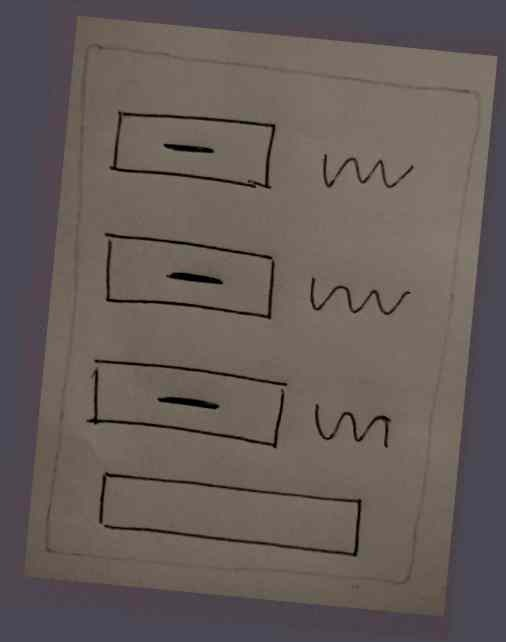button: (81, 353, 295, 460), (92, 227, 285, 332), (102, 104, 290, 202)
text: (297, 271, 415, 329), (311, 146, 418, 200), (305, 398, 401, 455)
text_input: (86, 462, 372, 567)
